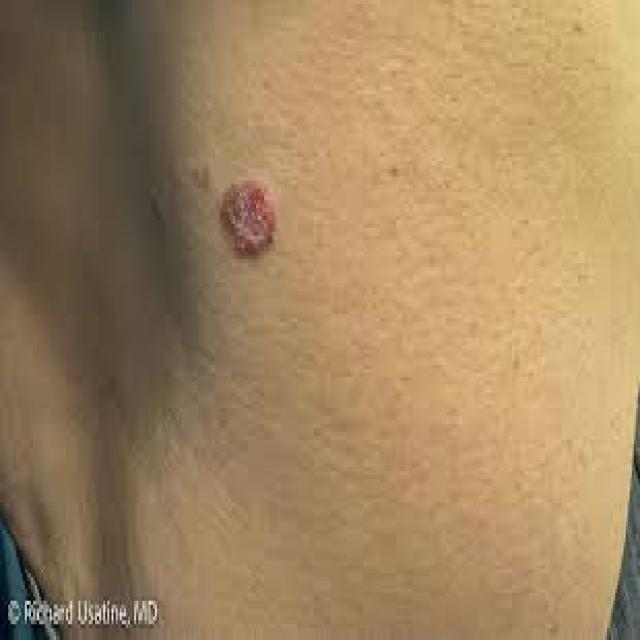Eczema: (213, 170, 282, 258)
